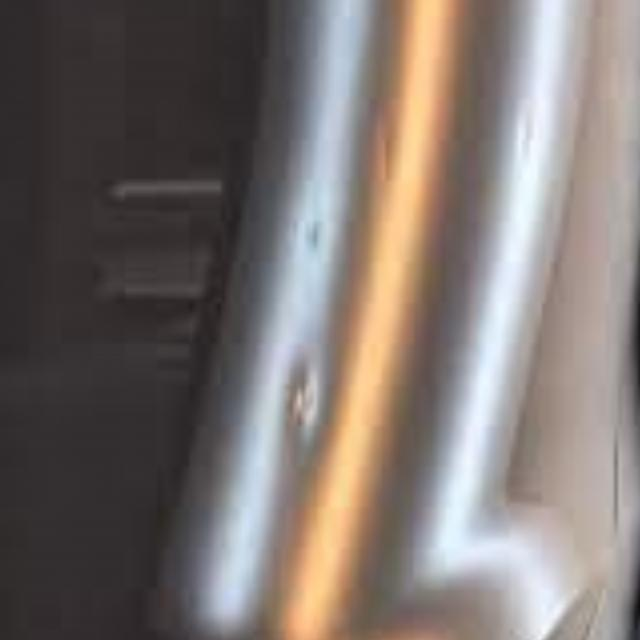dents: (282, 350, 333, 483), (284, 212, 354, 291), (368, 127, 429, 191), (502, 104, 552, 171)
